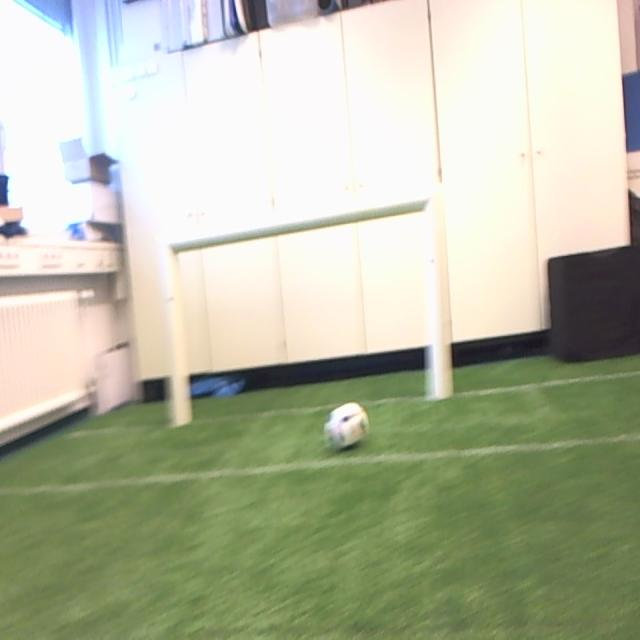ball: (326, 401, 370, 448)
goalpost: (423, 193, 454, 398), (159, 236, 191, 426)
